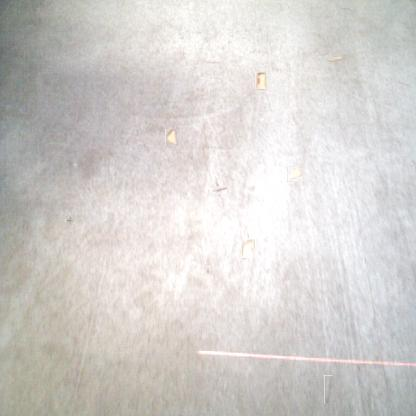dirty: (241, 239, 255, 258), (165, 128, 178, 146), (288, 167, 303, 182), (255, 72, 266, 89), (326, 56, 342, 63)
mark: (324, 375, 333, 404), (213, 184, 225, 196), (206, 266, 212, 275), (67, 217, 73, 224)
